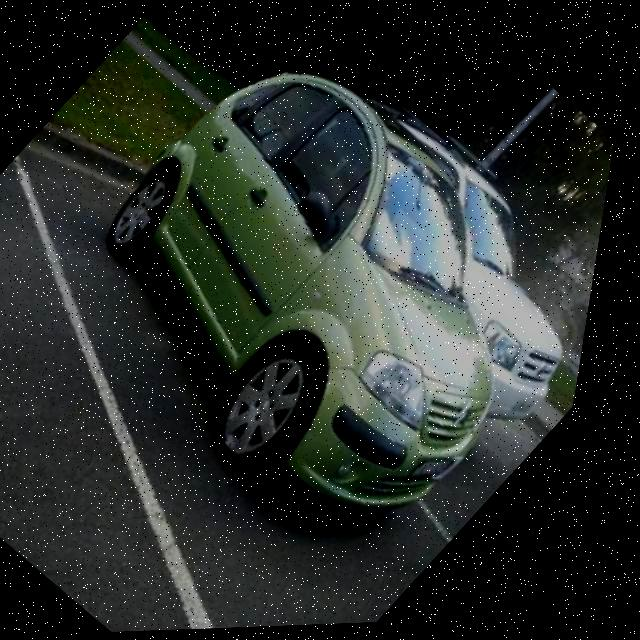license_plate: (422, 450, 471, 496), (520, 398, 551, 427)
